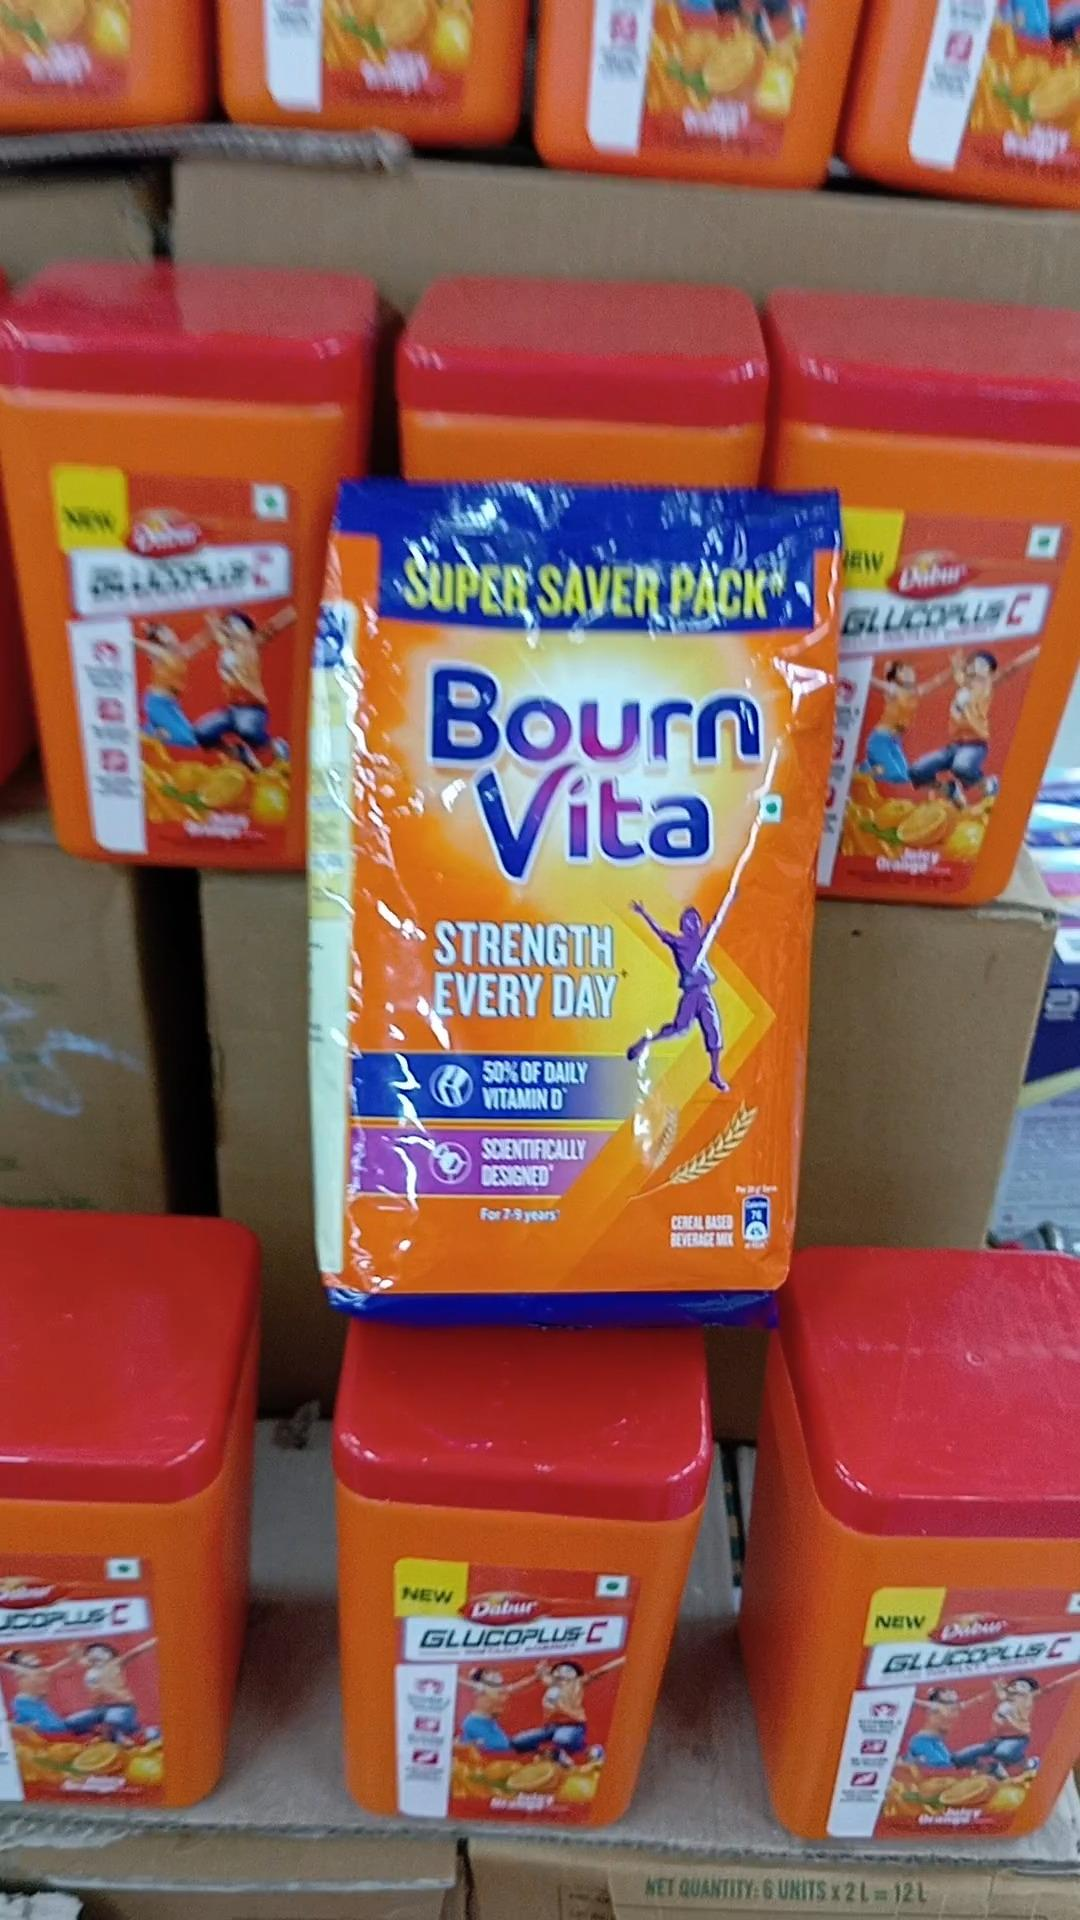BOURN_VITA_1_KG_POUCH: (306, 462, 811, 1332)
